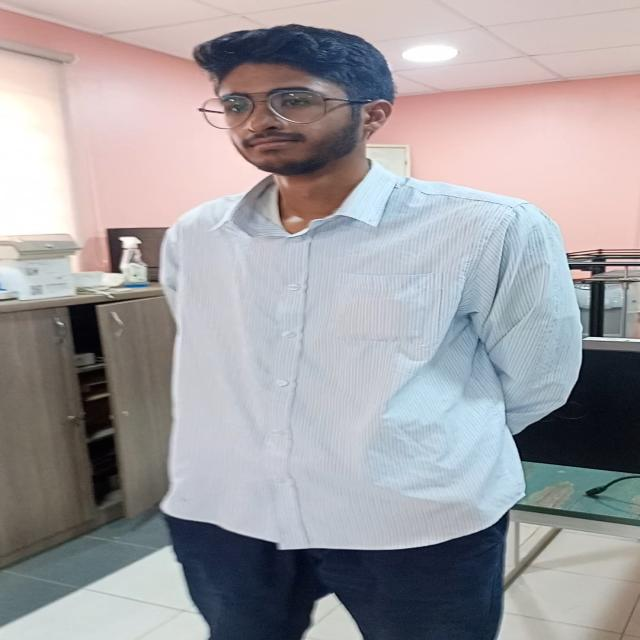dress: (153, 156, 585, 640)
glasses: (195, 82, 334, 134)
